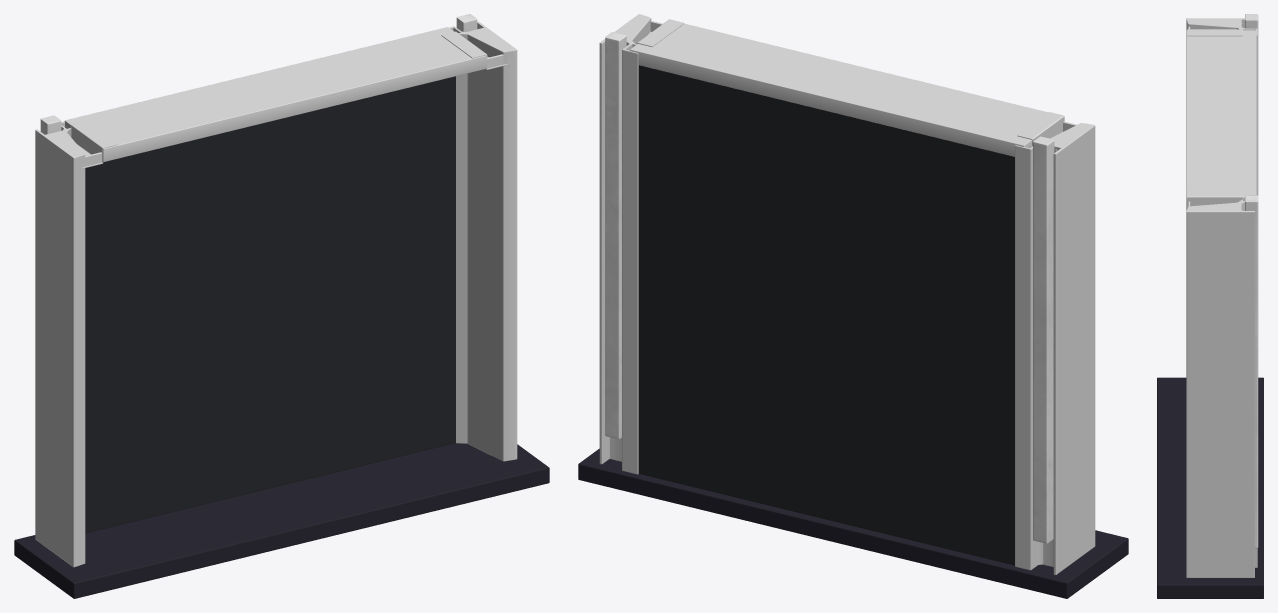
Rendered from SM_Kitchen_05_Base_Drawer_01.obj.
3 views of the same model, side by side, from view 1: azimuth 30°, elevation 25°; view 2: azimuth 150°, elevation 25°; view 3: azimuth 270°, elevation 25° (orthographic). The views are drawn at different scales.
Visible parts, largest first — view 1: SM_Kitchen_05_Base_Drawer_01; view 2: SM_Kitchen_05_Base_Drawer_01; view 3: SM_Kitchen_05_Base_Drawer_01.
Part boxes in pixels (x1,y1,x2,y2): SM_Kitchen_05_Base_Drawer_01: (14,14,549,598); SM_Kitchen_05_Base_Drawer_01: (578,14,1128,598); SM_Kitchen_05_Base_Drawer_01: (1157,14,1263,598).
Size of the model in its own units: 0.5969 by 0.5199 by 0.13.
4 materials, 4 textured.
